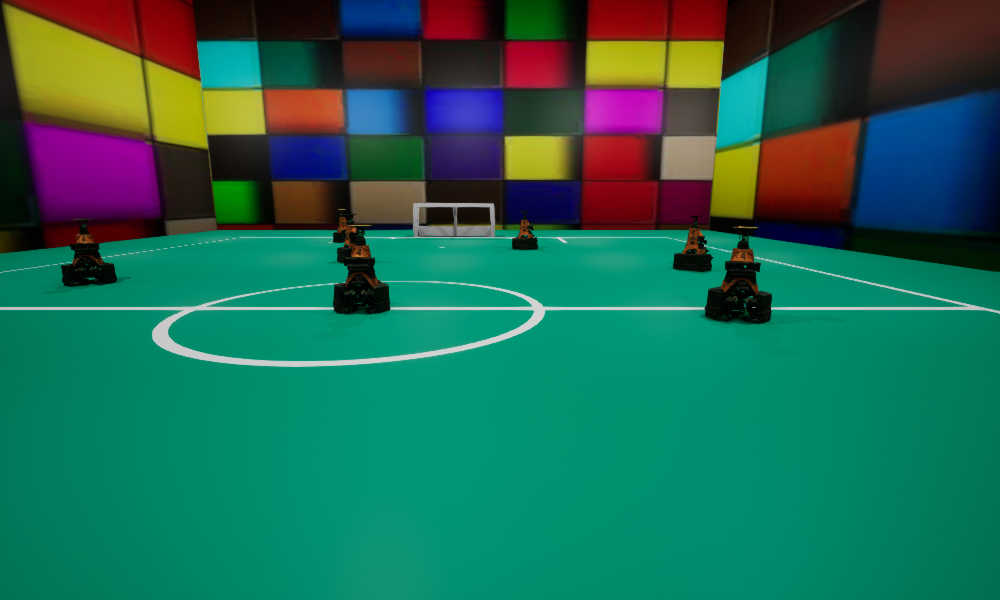0 orange robot TechUnited: (705, 226, 771, 322), (333, 225, 389, 313), (61, 219, 116, 286), (673, 216, 713, 271), (337, 214, 363, 262), (512, 211, 537, 249), (333, 209, 353, 242)
